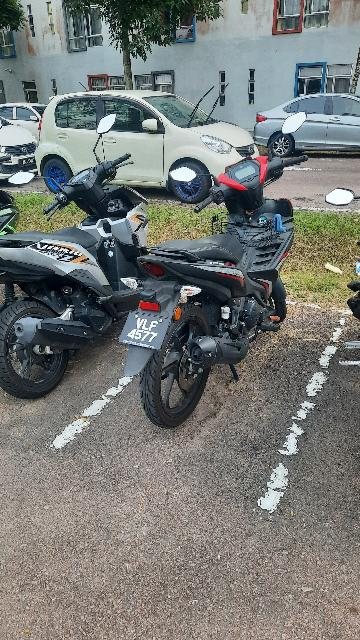License_Plate: (115, 300, 172, 356)
car: (35, 82, 267, 204), (249, 89, 360, 158)
motorcycle: (119, 110, 319, 432), (2, 108, 165, 406)
